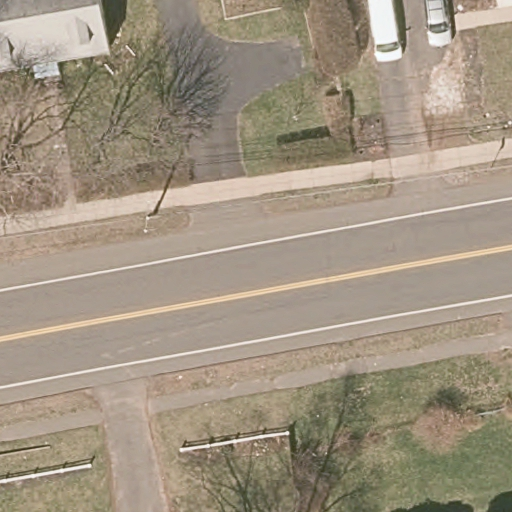DT: (143, 181, 173, 233)
